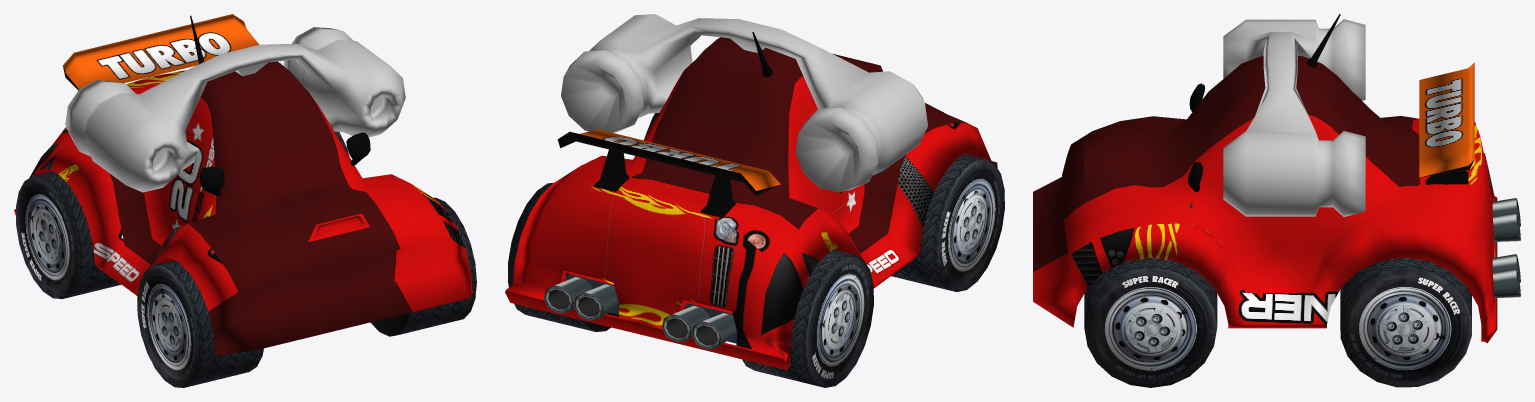
File: RacingCarSpeedBooster.fbx
3 renders of one model, left to right at view 1: azimuth 30°, elevation 25°; view 2: azimuth 150°, elevation 25°; view 3: azimuth 270°, elevation 25°, orthographic. The views are drawn at different scales.
Visible parts, largest first — view 1: carBody, speedBooster, frontWheelRight, backWheelRight, backSpoiler, frontWheelLeft, polySurface7, polySurface6; view 2: carBody, speedBooster, frontWheelRight, backWheelRight, backSpoiler, spoilerHolder1, backWheelLeft, mufflerTube4, mufflerTube2, mufflerTube3, mufflerTube1; view 3: carBody, speedBooster, frontWheelLeft, backWheelLeft, backSpoiler, mufflerTube1, mufflerTube3, spoilerHolder1, mufflerTube4, mufflerTube2.
Part boxes in pixels (x1,y1,x2,y2): carBody: (14, 61, 472, 355); speedBooster: (65, 27, 405, 192); frontWheelRight: (137, 260, 263, 387); backWheelRight: (16, 171, 120, 298); backSpoiler: (63, 14, 259, 90); frontWheelLeft: (370, 197, 476, 336); polySurface7: (199, 166, 224, 195); polySurface6: (346, 132, 370, 165); carBody: (505, 37, 997, 370); speedBooster: (561, 14, 927, 192); frontWheelRight: (891, 154, 1004, 291); backWheelRight: (742, 249, 873, 387); backSpoiler: (557, 129, 780, 195); spoilerHolder1: (594, 149, 735, 217); backWheelLeft: (508, 182, 618, 331); mufflerTube4: (691, 313, 737, 349); mufflerTube2: (573, 284, 618, 320); mufflerTube3: (661, 306, 709, 342); mufflerTube1: (543, 277, 591, 313); carBody: (1033, 56, 1497, 343); speedBooster: (1223, 19, 1365, 216); frontWheelLeft: (1084, 257, 1217, 387); backWheelLeft: (1340, 257, 1471, 387); backSpoiler: (1419, 62, 1474, 177); mufflerTube1: (1492, 268, 1520, 298); mufflerTube3: (1492, 212, 1520, 241); spoilerHolder1: (1425, 171, 1468, 184); mufflerTube4: (1492, 198, 1520, 226); mufflerTube2: (1492, 254, 1520, 282).
Bounding box in the file's own units: 22.18 × 20.2 × 30.87.
